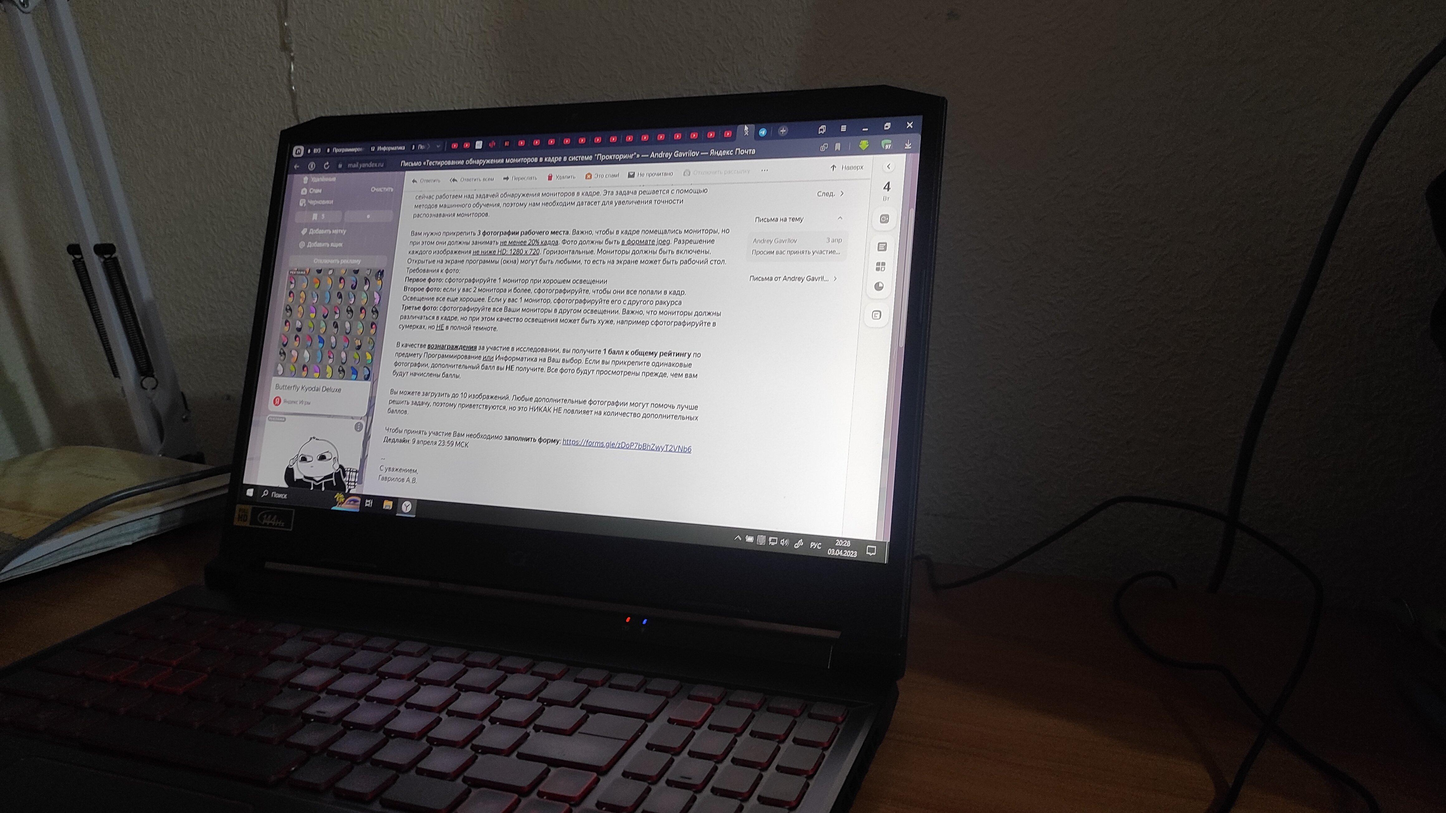monitor: (217, 83, 955, 640)
